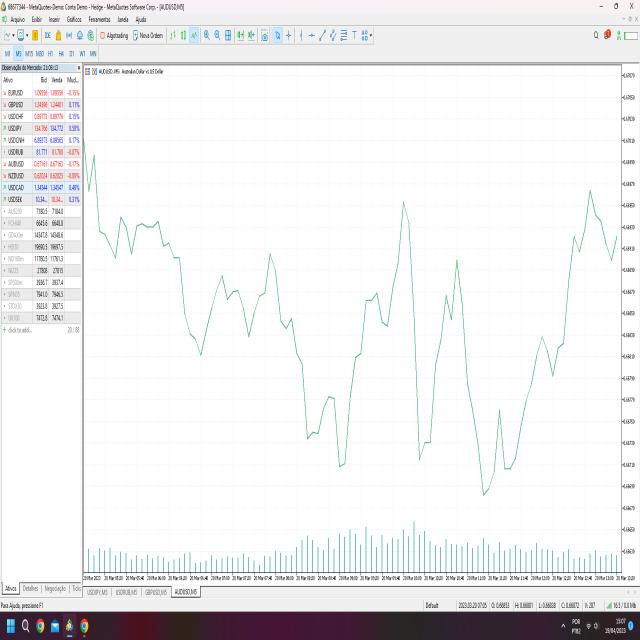fundo_duplo: (290, 330, 366, 489), (456, 374, 538, 519)
